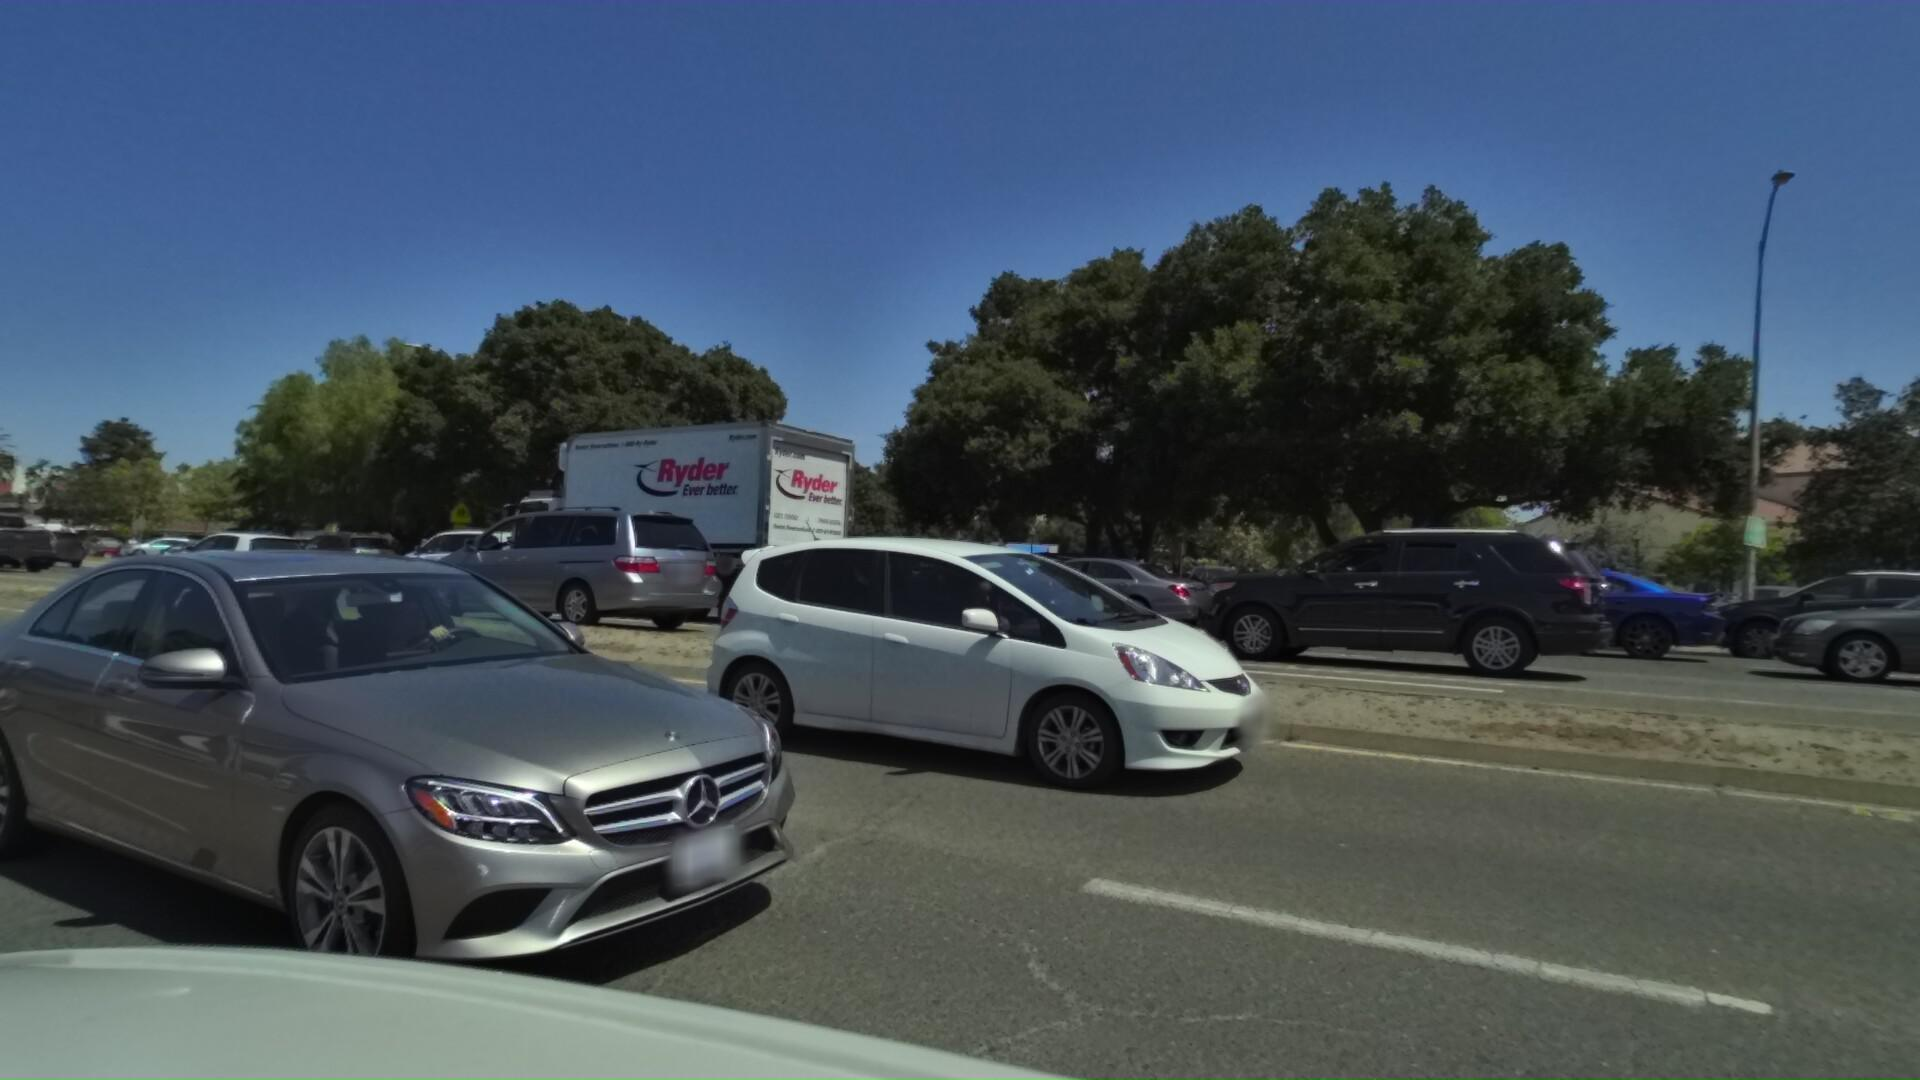car: (0, 517, 894, 1073), (687, 509, 1354, 818), (1118, 521, 1553, 688), (367, 506, 696, 640), (1361, 556, 1673, 662), (1693, 564, 1920, 702), (1654, 560, 1920, 676), (924, 547, 1153, 636), (829, 542, 1054, 630), (922, 545, 1120, 632), (719, 541, 911, 617), (369, 522, 560, 596), (138, 526, 302, 588), (260, 530, 394, 585), (142, 533, 251, 571), (0, 526, 84, 568), (0, 510, 51, 574), (0, 524, 65, 567)
truck: (450, 404, 841, 616)
